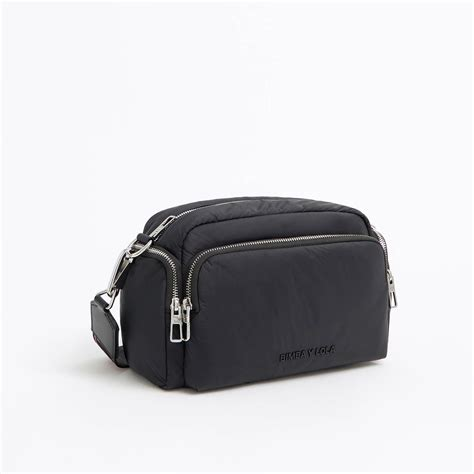nylon: (120, 195, 391, 396)
